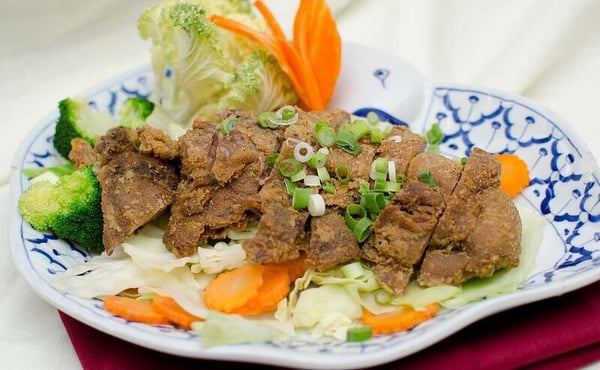curry: (130, 1, 283, 138), (18, 164, 104, 254)
